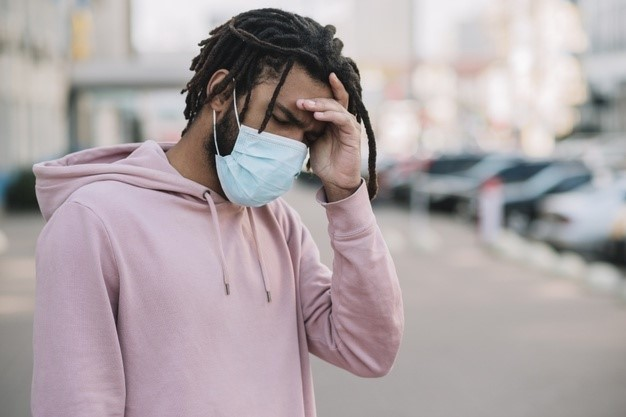face_with_mask: (189, 8, 351, 214)
